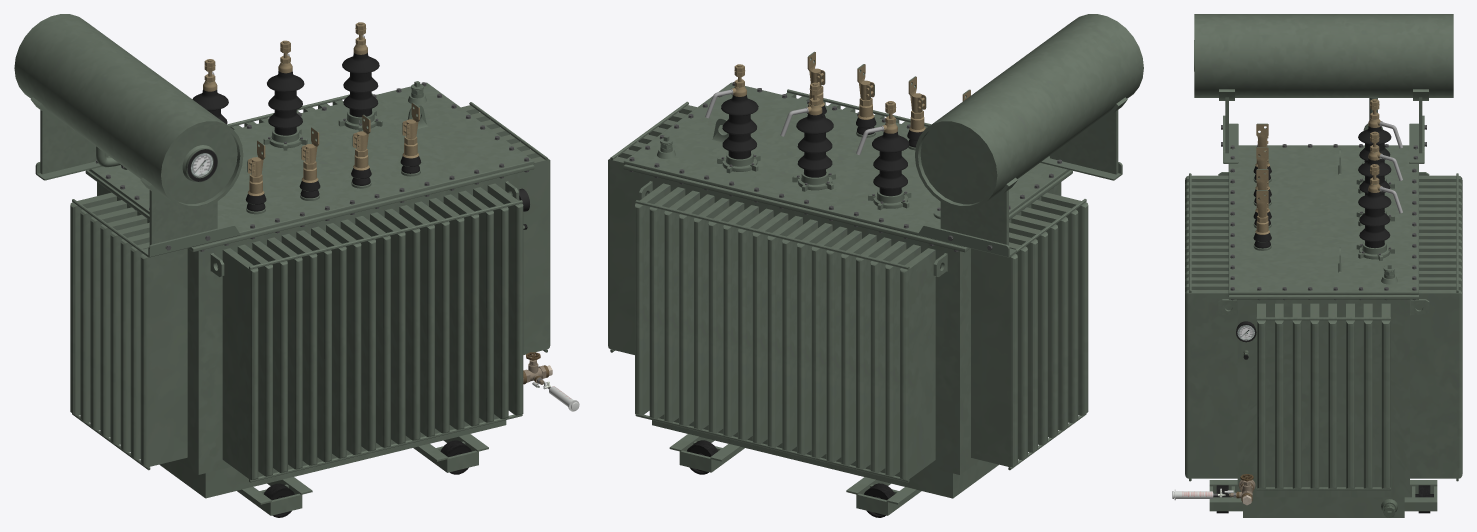
File: Oil Transformer.fbx
3 renders of one model, left to right at view 1: azimuth 30°, elevation 25°; view 2: azimuth 150°, elevation 25°; view 3: azimuth 270°, elevation 25°, orthographic. The views are drawn at different scales.
Visible parts, largest first — view 1: Frame, Top_Base, pCylinder7, pCylinder8, pCylinder16 (×3), pCube3, pCube4, pCube15, pCube8, Small_Bushing_3, Small_Bushing_1, Small_Bushing_2 (+2 smaller); view 2: Frame, pCylinder7, Top_Base, pCylinder16 (×3), pCylinder8, pCube4, pCube3, pCube16, pCube6, Small_Bushing_3, pCube7, Small_Bushing_2 (+1 smaller); view 3: Frame, Top_Base, pCylinder7, pCylinder16 (×3), pCube4, Small_Bushing_4, pCylinder8, pCube15, pCube16, pCube12, pCube13, Small_Bushing_1 (+7 smaller).
Part boxes in pixels (bbox=[...]): Frame: bbox=[70, 93, 550, 498]; Top_Base: bbox=[85, 82, 534, 251]; pCylinder7: bbox=[14, 14, 243, 209]; pCylinder8: bbox=[30, 97, 217, 245]; pCylinder16 (×3): bbox=[192, 52, 379, 135]; pCube3: bbox=[237, 477, 312, 515]; pCube4: bbox=[413, 434, 488, 472]; pCube15: bbox=[141, 225, 240, 257]; pCube8: bbox=[249, 200, 522, 269]; Small_Bushing_3: bbox=[351, 114, 371, 188]; Small_Bushing_1: bbox=[245, 140, 266, 214]; Small_Bushing_2: bbox=[299, 127, 320, 200]; Frame: bbox=[608, 92, 1088, 498]; pCylinder7: bbox=[915, 14, 1143, 209]; Top_Base: bbox=[623, 82, 1072, 252]; pCylinder16 (×3): bbox=[721, 95, 909, 196]; pCylinder8: bbox=[940, 97, 1127, 245]; pCube4: bbox=[669, 434, 744, 472]; pCube3: bbox=[846, 477, 921, 515]; pCube16: bbox=[918, 225, 1016, 257]; pCube6: bbox=[635, 200, 909, 269]; Small_Bushing_3: bbox=[856, 64, 876, 137]; pCube7: bbox=[635, 414, 909, 482]; Small_Bushing_2: bbox=[907, 76, 926, 150]; Frame: bbox=[1185, 175, 1462, 517]; Top_Base: bbox=[1228, 145, 1418, 299]; pCylinder7: bbox=[1194, 14, 1453, 97]; pCylinder16 (×3): bbox=[1358, 126, 1391, 248]; pCube4: bbox=[1209, 480, 1437, 511]; Small_Bushing_4: bbox=[1253, 190, 1271, 250]; pCylinder8: bbox=[1219, 89, 1428, 153]; pCube15: bbox=[1223, 115, 1238, 163]; pCube16: bbox=[1409, 115, 1424, 163]; pCube12: bbox=[1256, 317, 1390, 320]; pCube13: bbox=[1256, 487, 1390, 490]; Small_Bushing_1: bbox=[1253, 123, 1271, 182].
Bounding box in the file's own units: 5.13 × 4.91 × 3.42.
3 materials, 3 textured.
